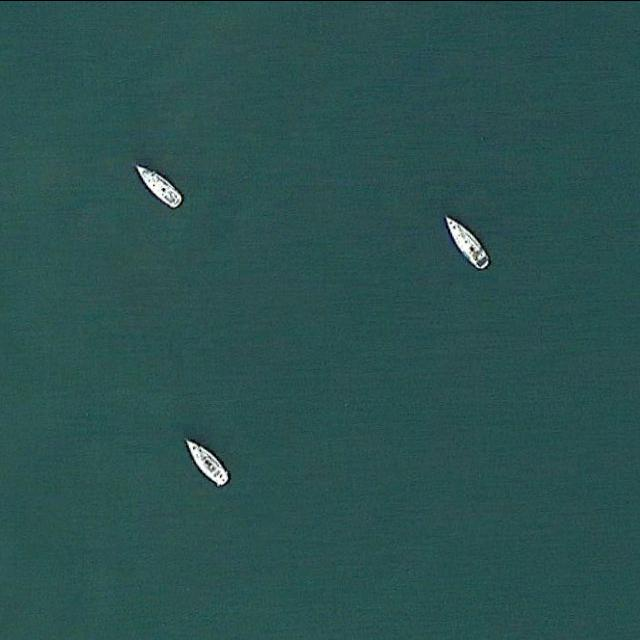ship: (181, 434, 230, 488), (443, 214, 489, 270), (131, 161, 182, 209)
